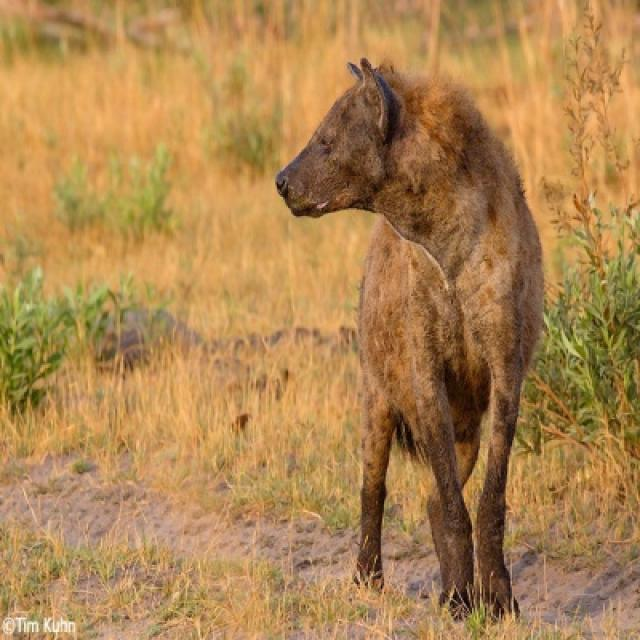hyena: (272, 59, 547, 621)
